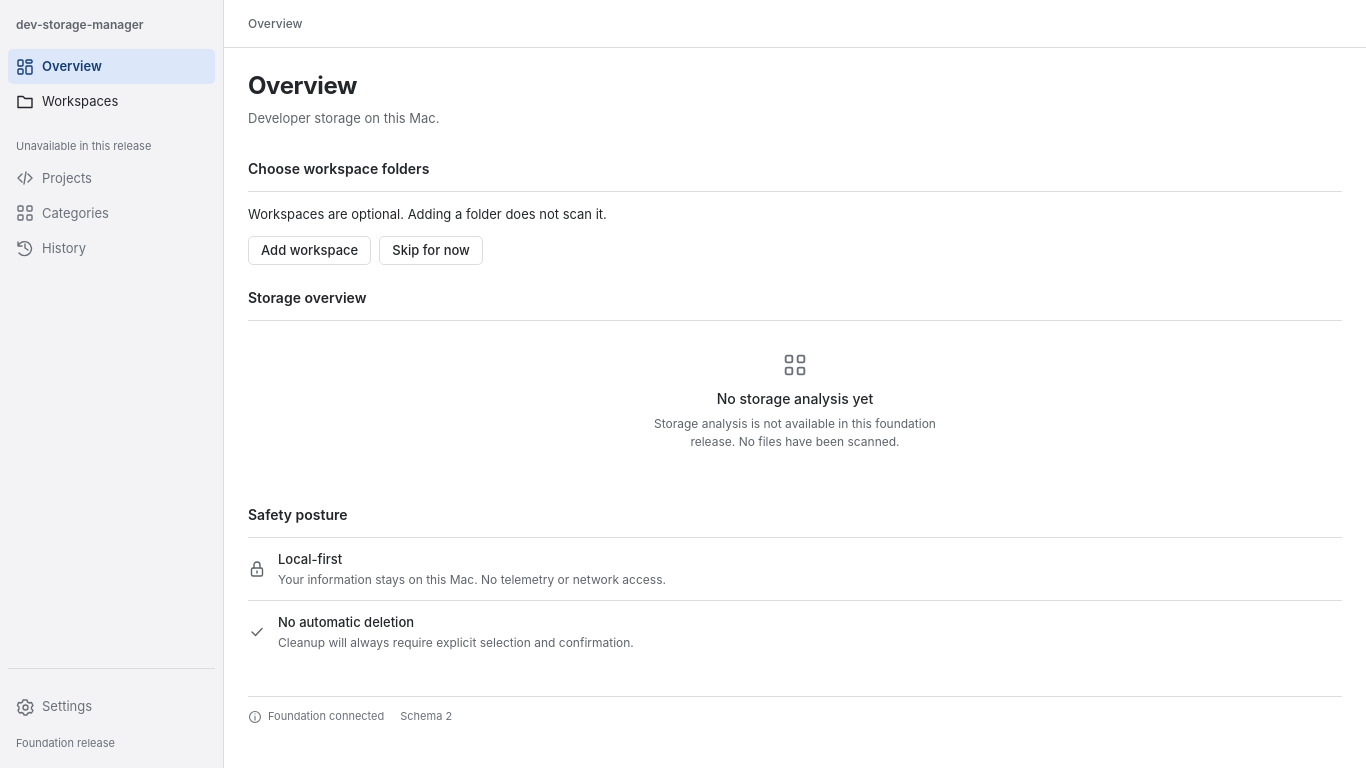
it: App › consumes setup success so a later removal and reload cannot revive its announcement
The image size is (1366, 768).
Click the button "Add workspace".
click(310, 251)  # box left=248, top=236, right=371, bottom=265
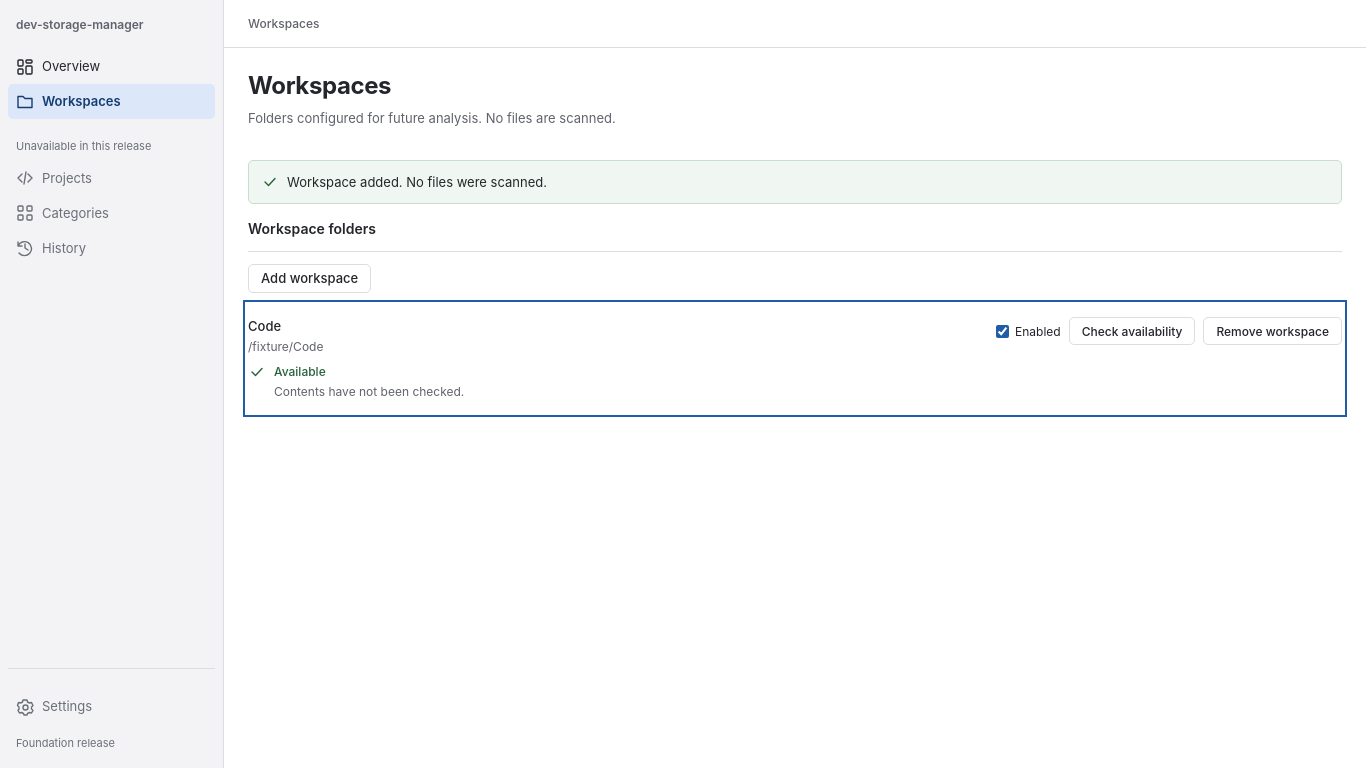
Now the text "Workspace added. No files were scanned." is shown, box left=287, top=174, right=547, bottom=190
Click the button with aria-label "Remove workspace Code — /fixture/Code".
click(1273, 331)  # box left=1203, top=317, right=1342, bottom=345
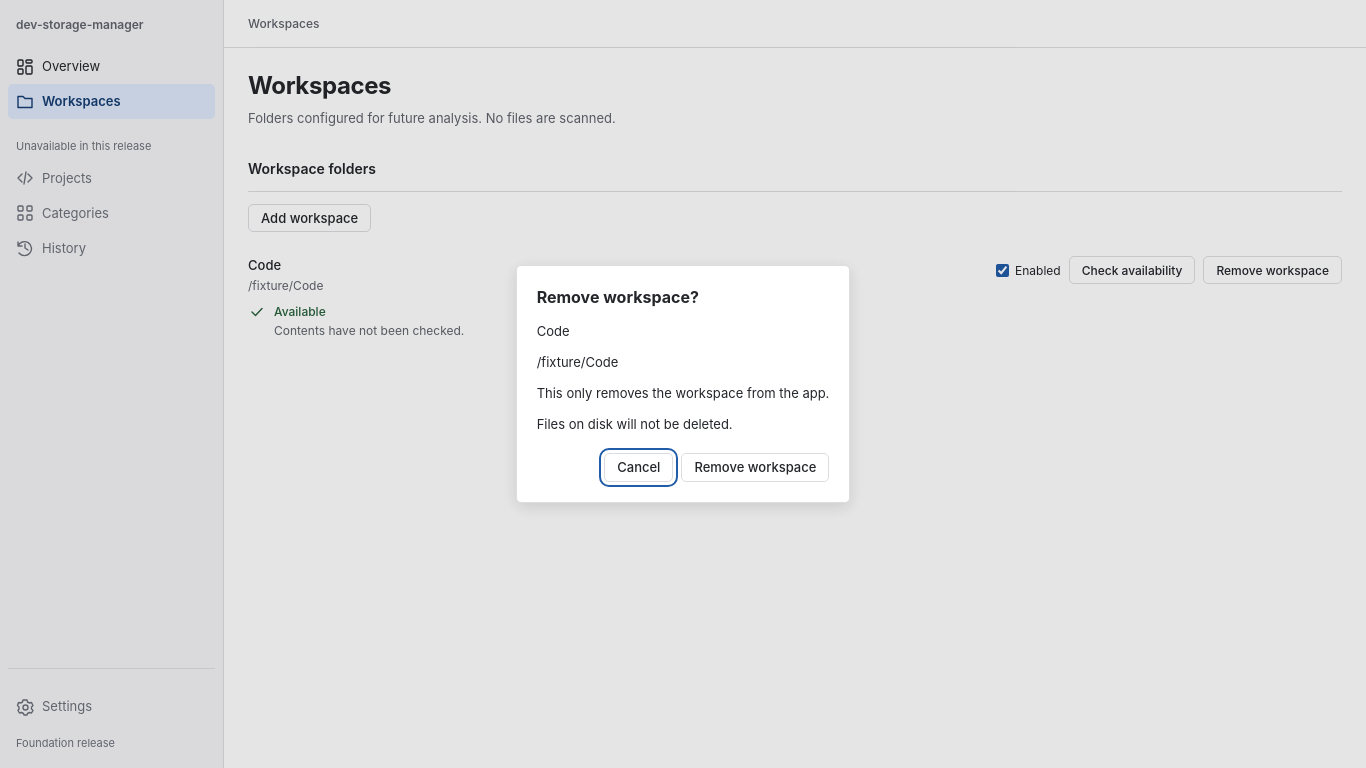
Now the text "Workspace added. No files were scanned." is gone
Click the button "Remove workspace".
click(755, 468)  # box left=681, top=454, right=829, bottom=482
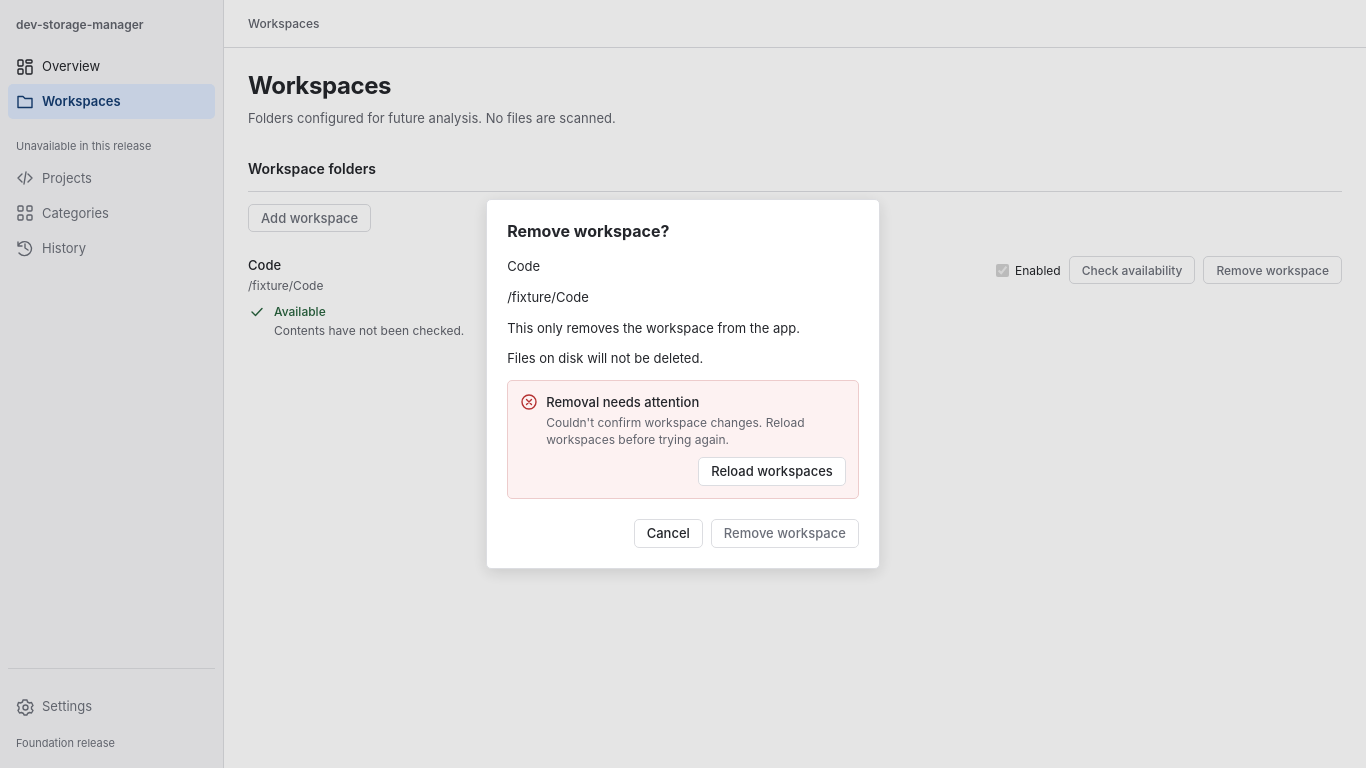
Click the button "Reload workspaces".
click(772, 471)  # box left=698, top=457, right=846, bottom=486
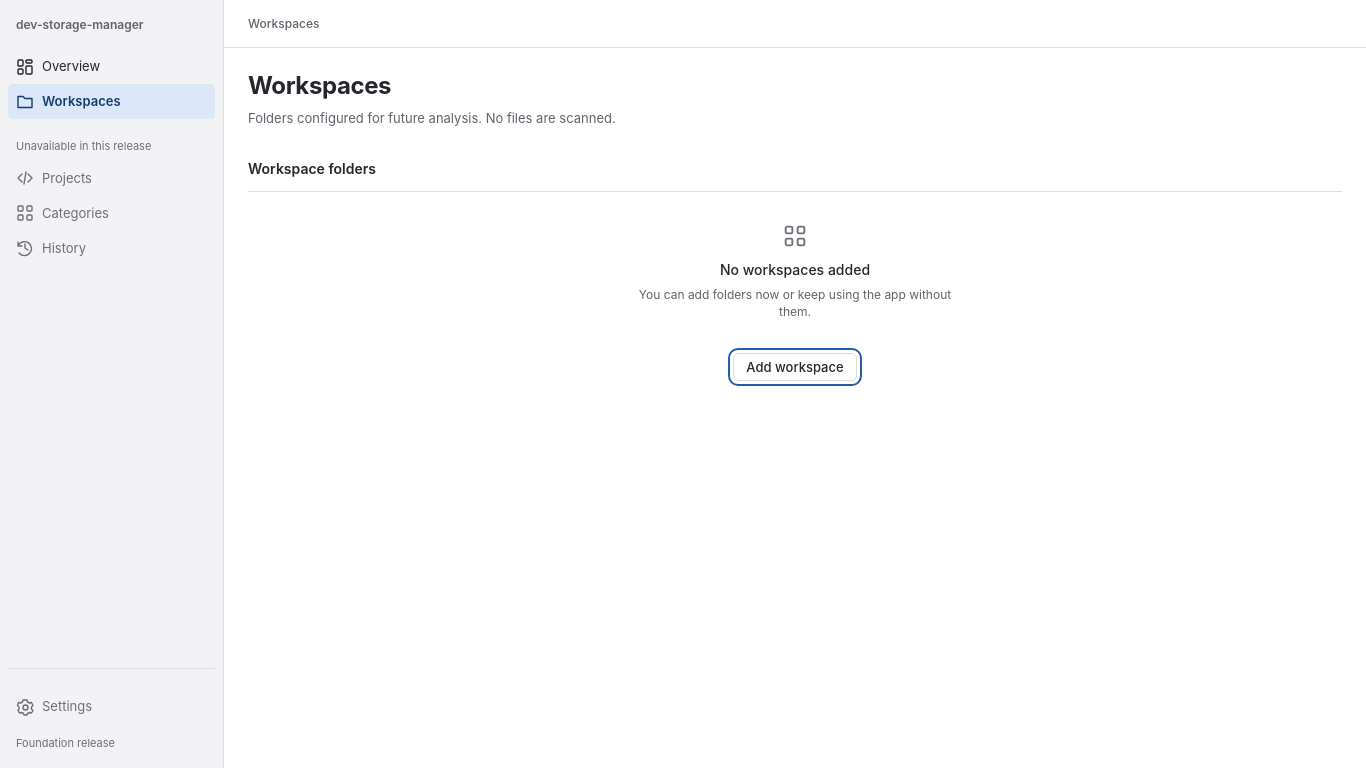
Expected: the text "Workspace added. No files were scanned." is not shown
Now the heading "No workspaces added" is shown, box left=720, top=260, right=870, bottom=280
